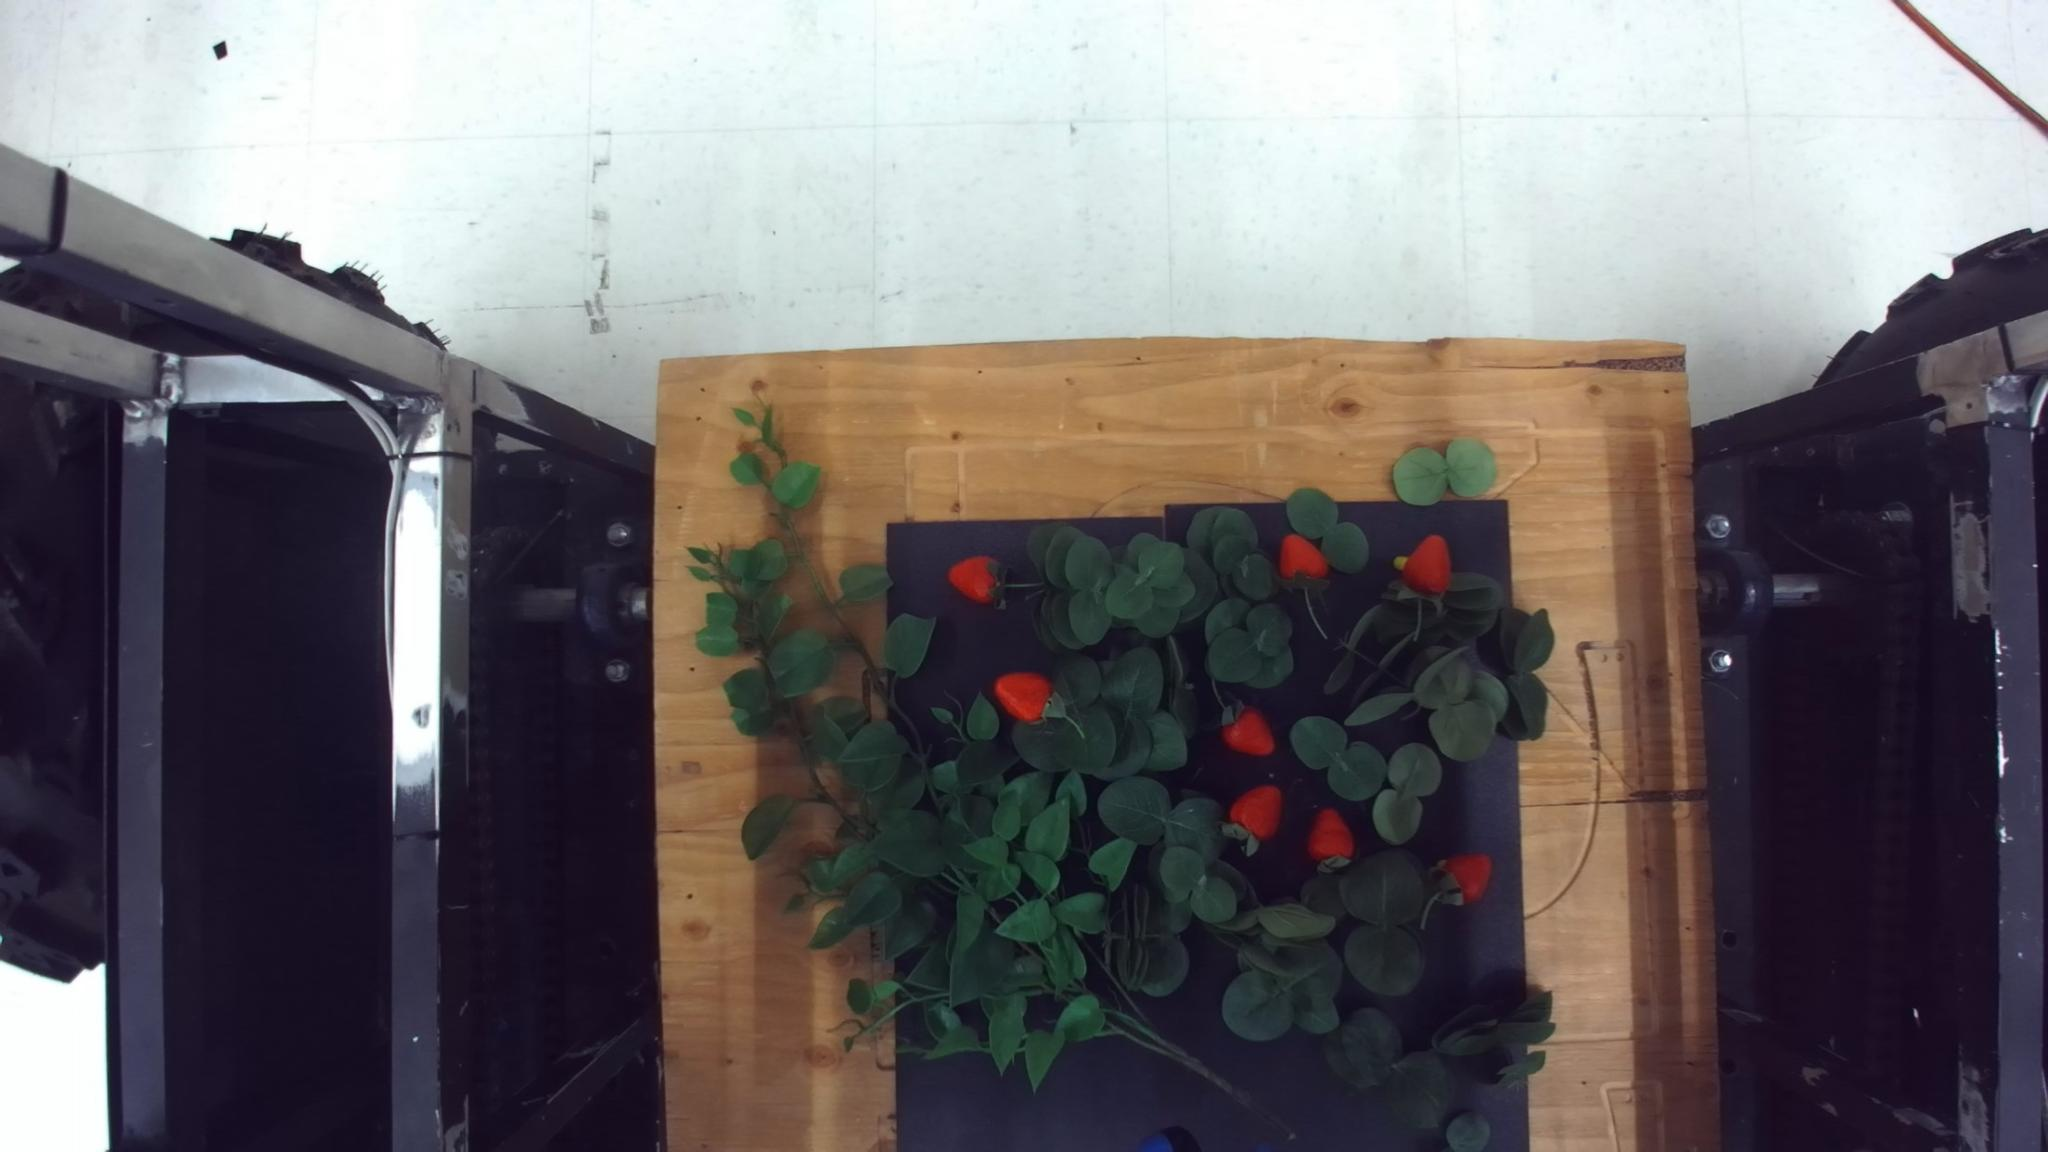strawberry: (1222, 782, 1281, 857), (1391, 532, 1452, 596), (1428, 852, 1492, 906), (992, 671, 1055, 723), (1307, 806, 1356, 871), (947, 554, 1004, 606), (1221, 705, 1276, 755), (1277, 532, 1329, 582)
